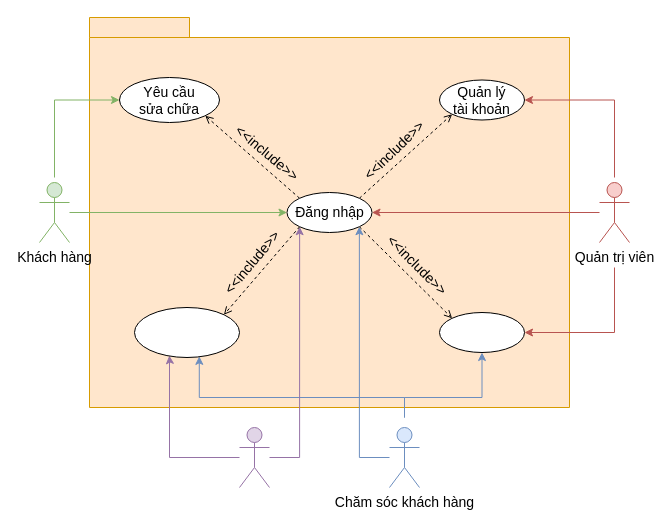
This 671x529 diagram has some shape labels left out. Here are the shapes that lost their labels. From the top down, the centre of each, then its label:
point (187, 332): Quản lý yêu cầu sửa chữa
point (481, 332): Báo cáo thống kê
point (254, 457): Kỹ thuật viên
